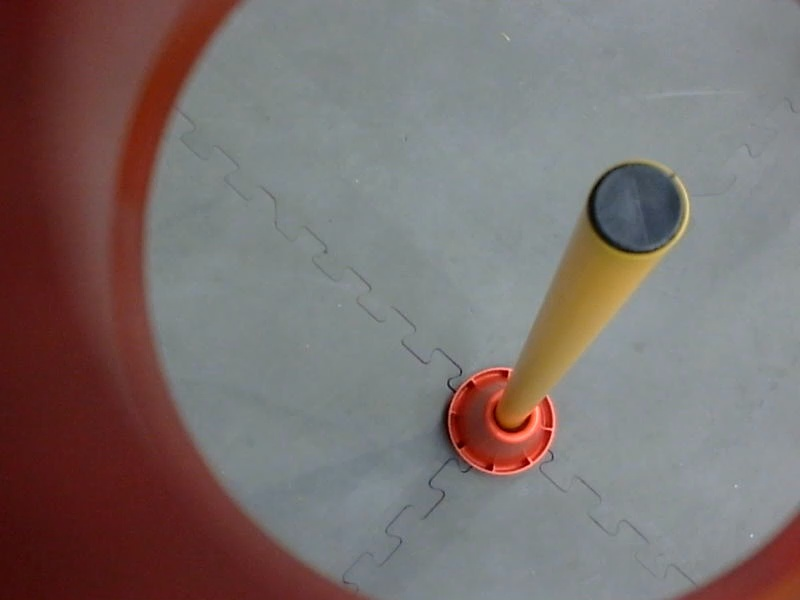tip: (582, 153, 695, 270)
